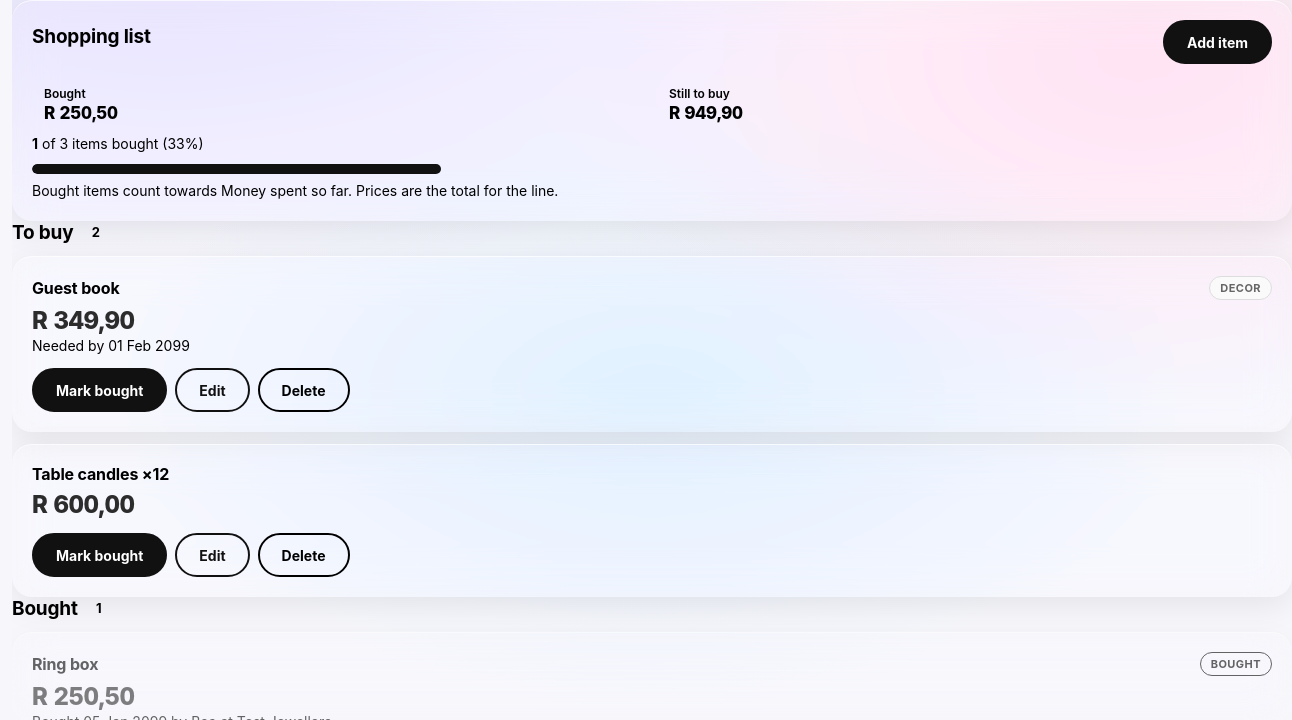
Test case: mark bought needs a price and date, and writes nothing until valid
Click the button with aria-label "Mark Table candles bought" at {"x": 100, "y": 555}, box [32,533,167,577]
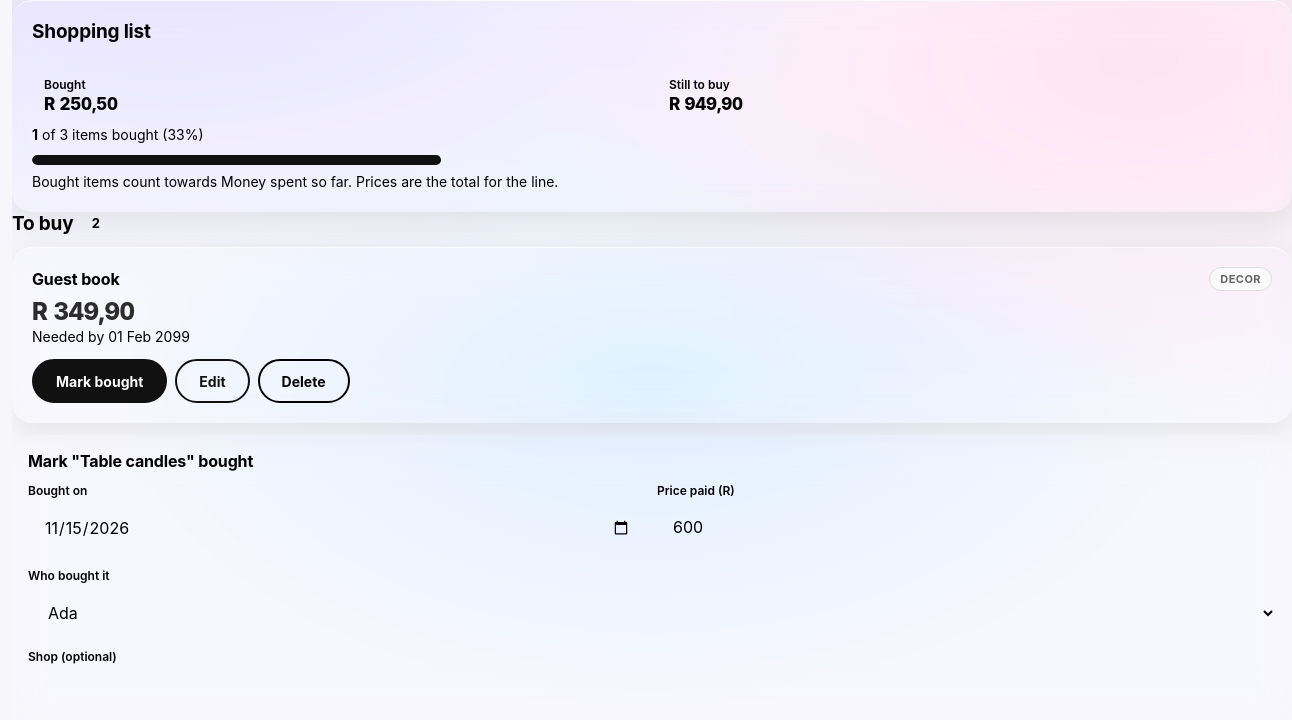
Clear the date field labelled "Bought on" at {"x": 338, "y": 528}, box [28,504,647,552]
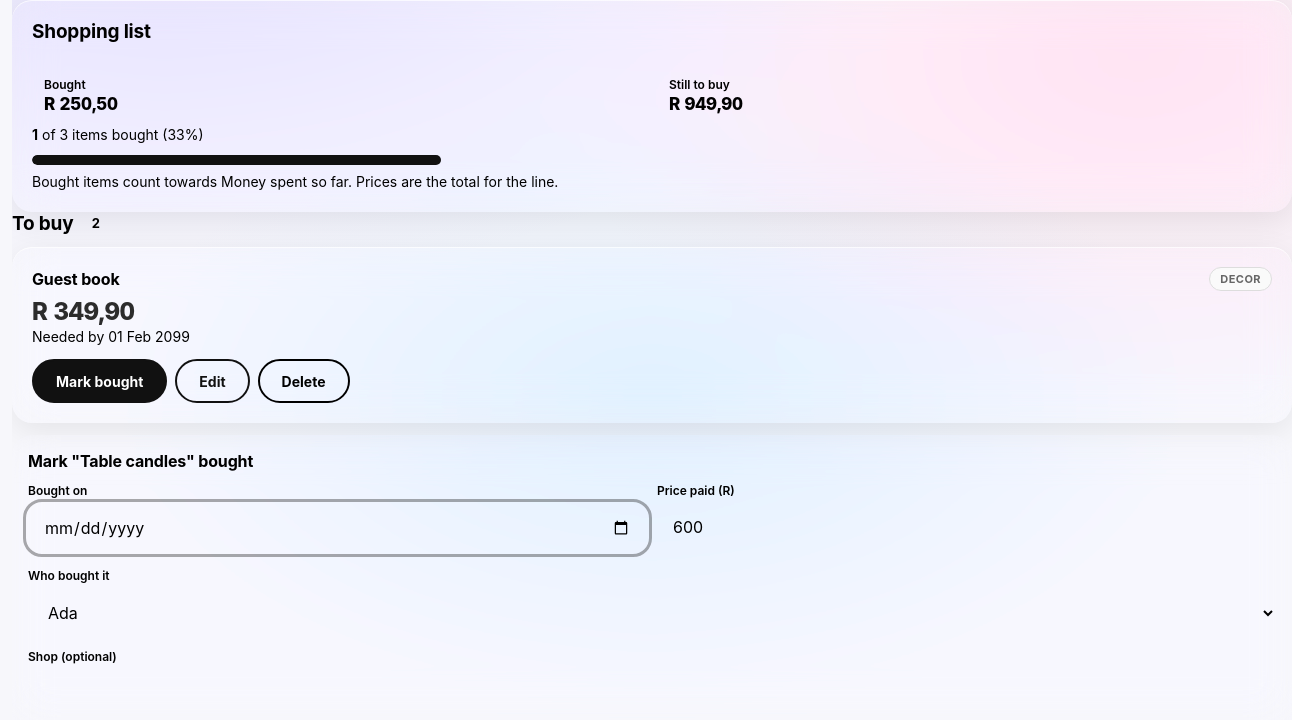
Clear the field labelled "Price paid (R)" at {"x": 966, "y": 527}, box [657,504,1276,550]
(page scrolled)
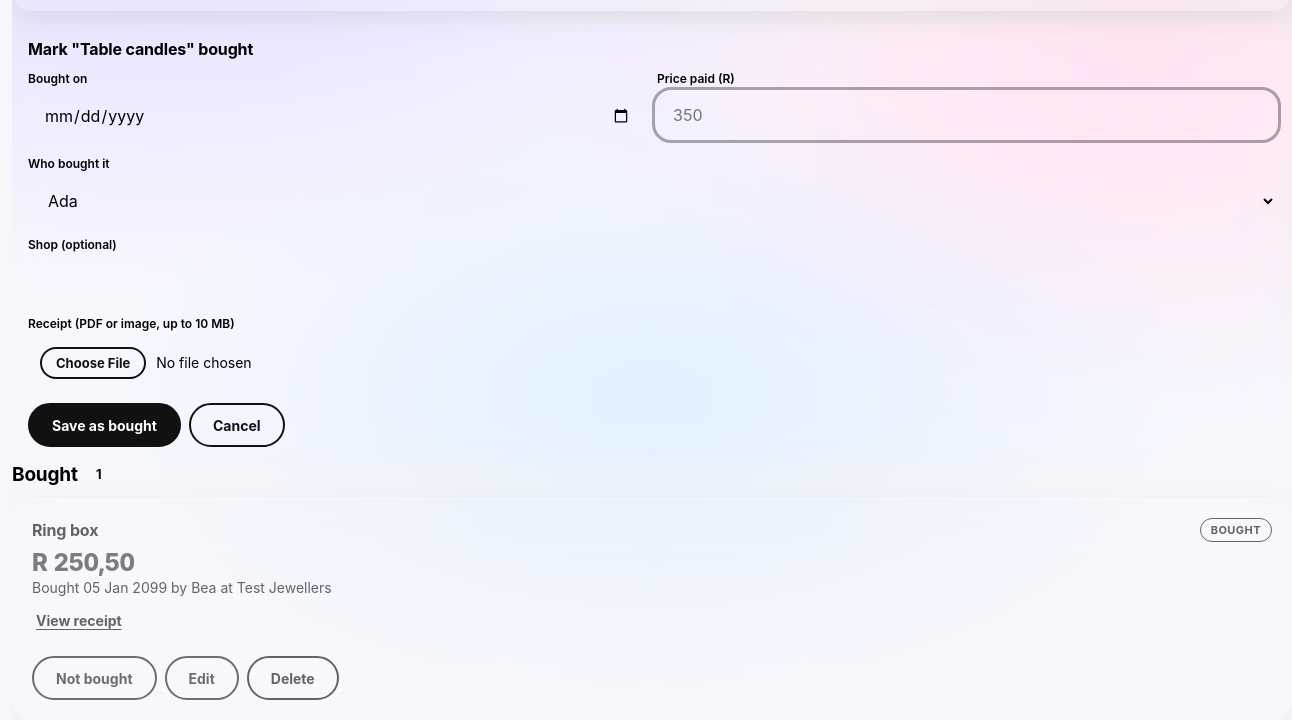
Click the button "Save as bought" at {"x": 104, "y": 425}, box [28,403,181,447]
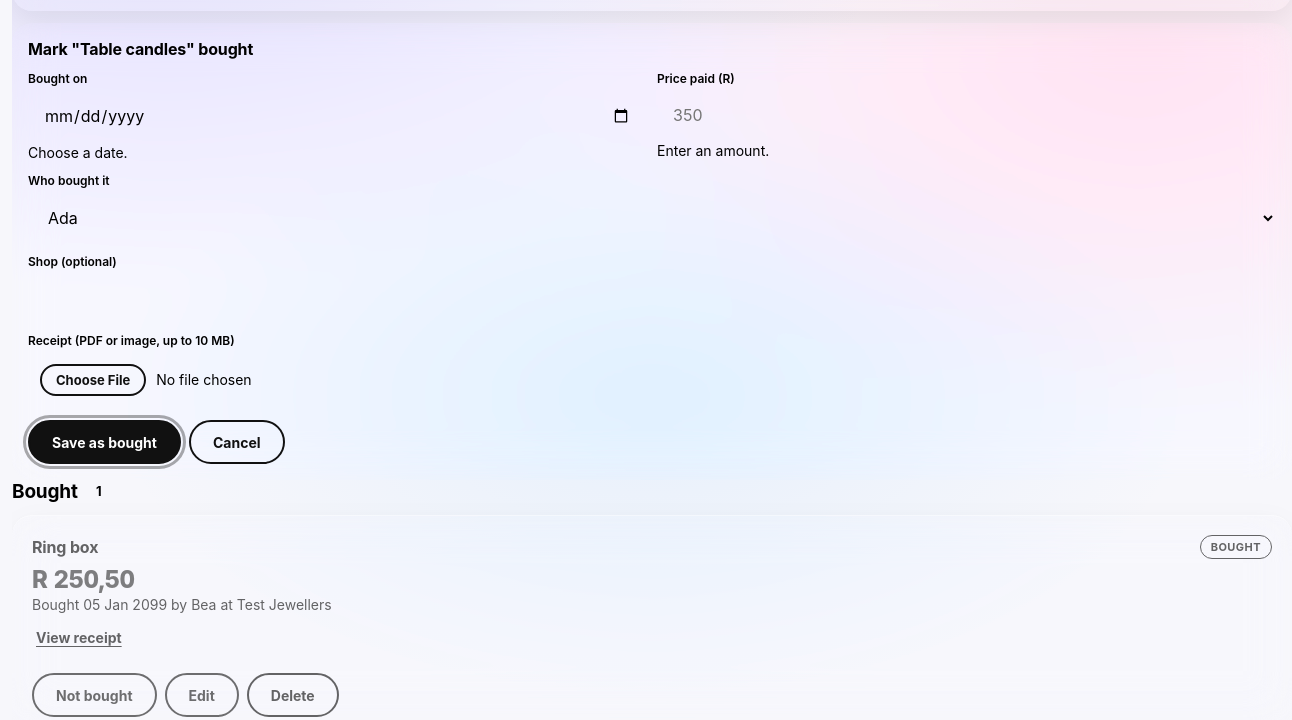
Result: the text "Choose a date." is shown at [28,144,128,161]
Result: the text "Enter an amount." is shown at [657,142,769,159]
